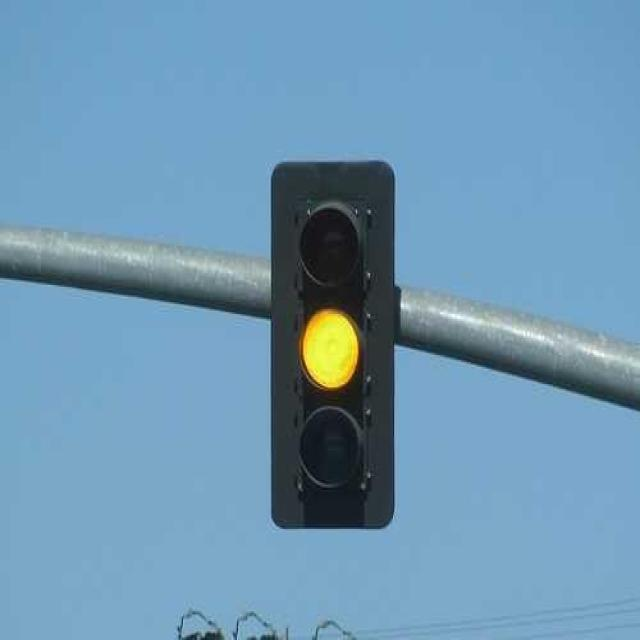Traffic Light -Yellow-: (248, 147, 390, 534), (294, 294, 366, 398)
